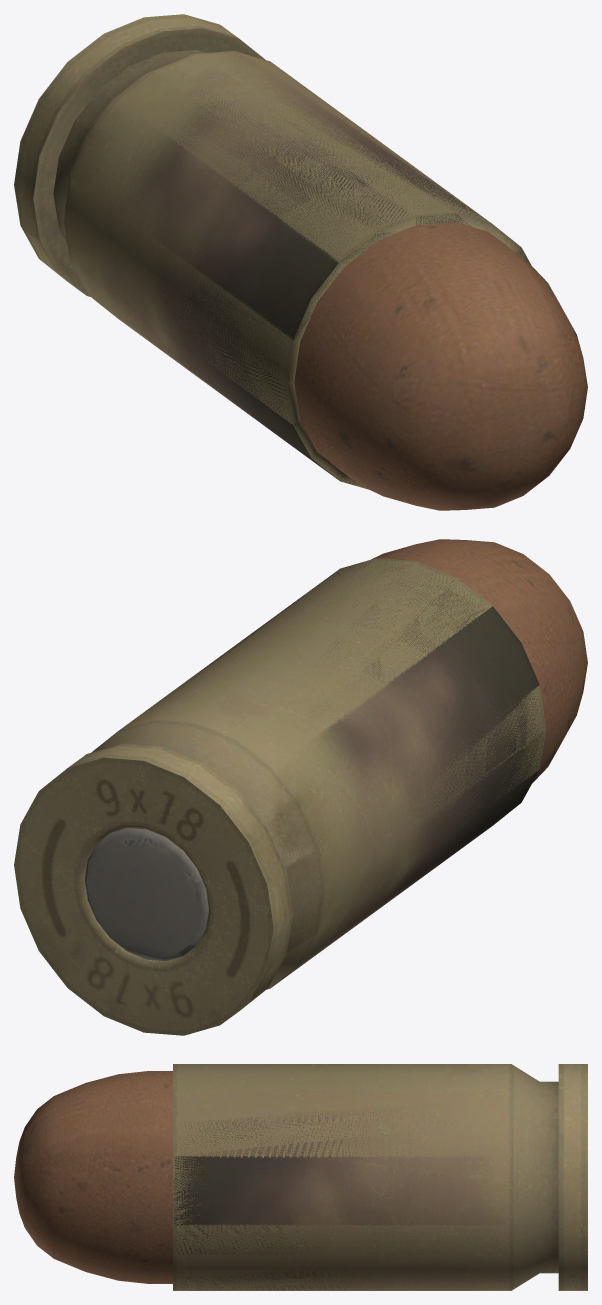
File: Ammo_9x18mmMakarov_FMJ (merge).fbx
3 renders of one model, top to bottom at view 1: azimuth 30°, elevation 25°; view 2: azimuth 150°, elevation 25°; view 3: azimuth 270°, elevation 25°, orthographic. The views are drawn at different scales.
Visible parts, largest first — view 1: cal_9x18mm_FMJ, cal_9x18mm_shell; view 2: cal_9x18mm_FMJ, cal_9x18mm_shell; view 3: cal_9x18mm_FMJ, cal_9x18mm_shell.
Part boxes in pixels (x1=…): cal_9x18mm_FMJ: x1=14, y1=14, x2=587, y2=510; cal_9x18mm_shell: x1=21, y1=28, x2=531, y2=488; cal_9x18mm_FMJ: x1=14, y1=539, x2=587, y2=1035; cal_9x18mm_shell: x1=85, y1=561, x2=543, y2=1022; cal_9x18mm_FMJ: x1=14, y1=1064, x2=587, y2=1290; cal_9x18mm_shell: x1=173, y1=1073, x2=558, y2=1290.
Size of the model in its own units: 0.00996 by 0.00996 by 0.025.
